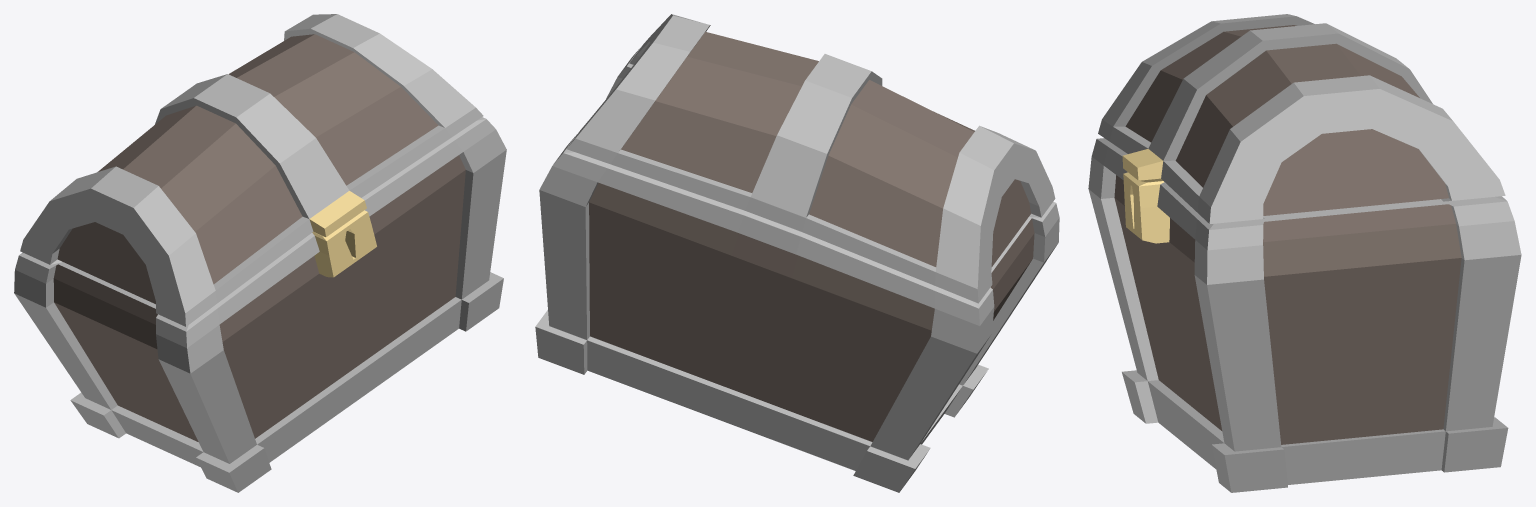
The model's file is trésor.fbx.
The picture shows the model from 3 angles, left to right: view 1: azimuth 30°, elevation 25°; view 2: azimuth 150°, elevation 25°; view 3: azimuth 270°, elevation 25°; orthographic projection. The views are drawn at different scales.
Parts seen in each view (by area): view 1: trésor; view 2: trésor; view 3: trésor.
Boxes of the visible parts, x1,y1,x2,y2 form: trésor: (14,14,506,492); trésor: (535,14,1059,492); trésor: (1088,14,1521,492).
Size of the model in its own units: 2.54 by 2.07 by 1.83.
